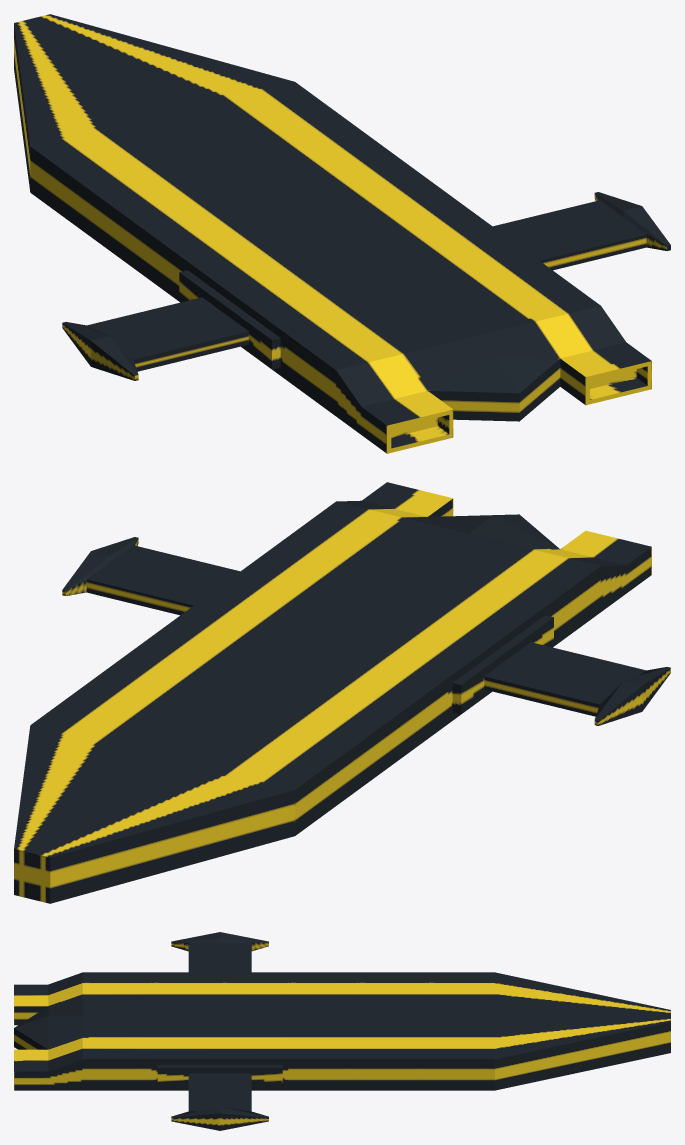
File: HoverBoard.fbx
The picture shows the model from 3 angles, top to bottom: view 1: azimuth 30°, elevation 25°; view 2: azimuth 150°, elevation 25°; view 3: azimuth 270°, elevation 25°; orthographic projection. The views are drawn at different scales.
Visible parts, largest first — view 1: HoverBoardLP; view 2: HoverBoardLP; view 3: HoverBoardLP.
Part boxes in pixels (bbox=[...]): HoverBoardLP: bbox=[14, 14, 670, 453]; HoverBoardLP: bbox=[14, 482, 670, 903]; HoverBoardLP: bbox=[14, 932, 670, 1130].
Bounding box in the file's own units: 125 × 191 × 10.
Materials: 1 (1 with a texture image).
